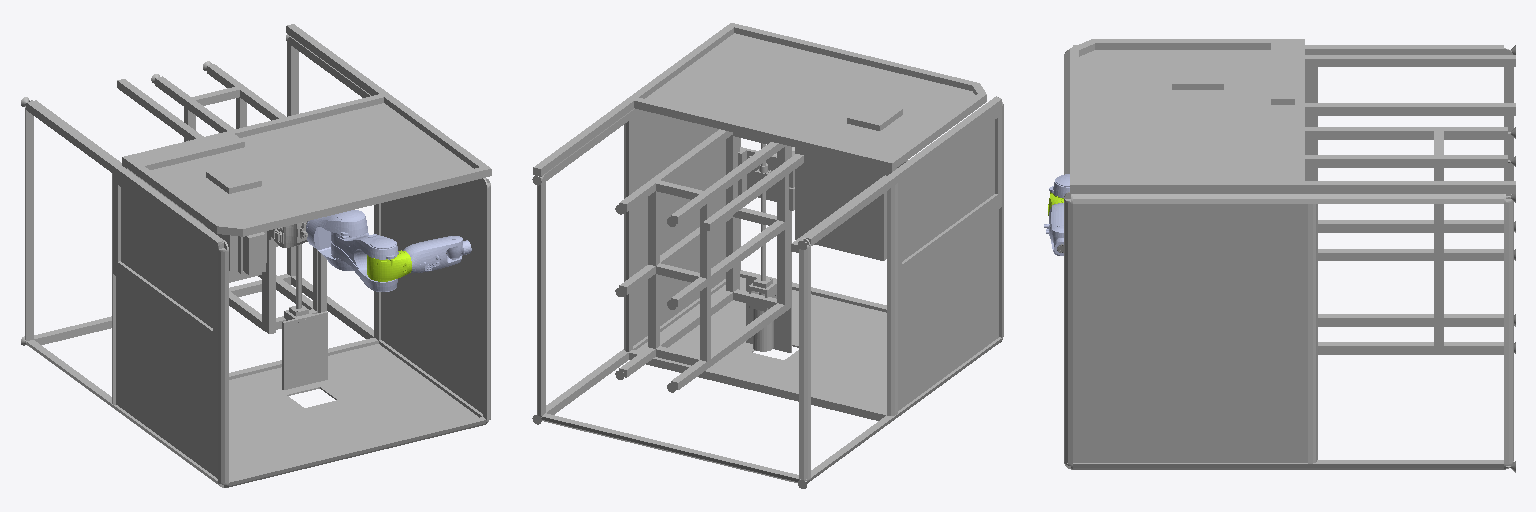
The robot description file, URDF, robot "kuka":
<?xml version="1.0" encoding="utf-8"?>
<!-- This URDF was automatically created by SolidWorks to URDF Exporter! Originally created by [author] ([email redacted]) 
     Commit Version: 1.5.1-0-g916b5db  Build Version: 1.5.7152.31018
     For more information, please see http://wiki.ros.org/sw_urdf_exporter -->
<robot
  name="kuka">
  <link
    name="base_link">
    <inertial>
      <origin
        xyz="0.59313617859597 -1.11287465825018 -0.416127983870025"
        rpy="0 0 0" />
      <mass
        value="171.312513540901" />
      <inertia
        ixx="15.4278561288017"
        ixy="0.334753403251732"
        ixz="-0.769988015650327"
        iyy="14.6830568753194"
        iyz="0.217841140427882"
        izz="21.0949940722863" />
    </inertial>
    <visual>
      <origin
        xyz="0 0 0"
        rpy="0 0 0" />
      <geometry>
        <mesh
          filename="package://kuka/meshes/base_link.STL" />
      </geometry>
      <material
        name="">
        <color
          rgba="0.752941176470588 0.752941176470588 0.752941176470588 1" />
      </material>
    </visual>
    <collision>
      <origin
        xyz="0 0 0"
        rpy="0 0 0" />
      <geometry>
        <mesh
          filename="package://kuka/meshes/base_link.STL" />
      </geometry>
    </collision>
  </link>
  <link
    name="Link1">
    <inertial>
      <origin
        xyz="0.00796741917125121 0.00201869056408216 0.11571807350516"
        rpy="0 0 0" />
      <mass
        value="6.2752643308886" />
      <inertia
        ixx="0.0762054973100548"
        ixy="9.82188280946093E-06"
        ixz="-0.00530053527041219"
        iyy="0.0500772495105224"
        iyz="-0.000515039640446045"
        izz="0.0562692167535696" />
    </inertial>
    <visual>
      <origin
        xyz="0 0 0"
        rpy="0 0 0" />
      <geometry>
        <mesh
          filename="package://kuka/meshes/Link1.STL" />
      </geometry>
      <material
        name="">
        <color
          rgba="0.792156862745098 0.819607843137255 0.933333333333333 1" />
      </material>
    </visual>
    <collision>
      <origin
        xyz="0 0 0"
        rpy="0 0 0" />
      <geometry>
        <mesh
          filename="package://kuka/meshes/Link1.STL" />
      </geometry>
    </collision>
  </link>
  <joint
    name="Joint1"
    type="revolute">
    <origin
      xyz="0.8275 -1.3595 -0.29335"
      rpy="1.5708 0 0" />
    <parent
      link="base_link" />
    <child
      link="Link1" />
    <axis
      xyz="0 0 -1" />
    <limit
      lower="0"
      upper="0"
      effort="0"
      velocity="0" />
  </joint>
  <link
    name="Link2">
    <inertial>
      <origin
        xyz="-0.00525474390047875 -0.00581945126514727 0.131443818626646"
        rpy="0 0 0" />
      <mass
        value="7.36258357526296" />
      <inertia
        ixx="0.151415777716324"
        ixy="-1.49718250099861E-05"
        ixz="0.000868975515047322"
        iyy="0.135639501588784"
        iyz="0.00168356952008552"
        izz="0.0384883582251908" />
    </inertial>
    <visual>
      <origin
        xyz="0 0 0"
        rpy="0 0 0" />
      <geometry>
        <mesh
          filename="package://kuka/meshes/Link2.STL" />
      </geometry>
      <material
        name="">
        <color
          rgba="0.792156862745098 0.819607843137255 0.933333333333333 1" />
      </material>
    </visual>
    <collision>
      <origin
        xyz="0 0 0"
        rpy="0 0 0" />
      <geometry>
        <mesh
          filename="package://kuka/meshes/Link2.STL" />
      </geometry>
    </collision>
  </link>
  <joint
    name="Joint2"
    type="revolute">
    <origin
      xyz="0.025 0 0.183"
      rpy="0 0 0" />
    <parent
      link="Link1" />
    <child
      link="Link2" />
    <axis
      xyz="0 1 0" />
    <limit
      lower="0"
      upper="0"
      effort="0"
      velocity="0" />
  </joint>
  <link
    name="Link3">
    <inertial>
      <origin
        xyz="0.0158897367922235 0.00377551624197836 0.0103622040751556"
        rpy="0 0 0" />
      <mass
        value="2.90698496201672" />
      <inertia
        ixx="0.00835937629772127"
        ixy="3.52504465660669E-05"
        ixz="-0.00140858848005162"
        iyy="0.0112132449173567"
        iyz="1.88954263071989E-05"
        izz="0.0100277382096032" />
    </inertial>
    <visual>
      <origin
        xyz="0 0 0"
        rpy="0 0 0" />
      <geometry>
        <mesh
          filename="package://kuka/meshes/Link3.STL" />
      </geometry>
      <material
        name="">
        <color
          rgba="0.8 1 0.2 1" />
      </material>
    </visual>
    <collision>
      <origin
        xyz="0 0 0"
        rpy="0 0 0" />
      <geometry>
        <mesh
          filename="package://kuka/meshes/Link3.STL" />
      </geometry>
    </collision>
  </link>
  <joint
    name="Joint3"
    type="revolute">
    <origin
      xyz="0 0 0.315"
      rpy="0 0 0" />
    <parent
      link="Link2" />
    <child
      link="Link3" />
    <axis
      xyz="0 1 0" />
    <limit
      lower="0"
      upper="0"
      effort="0"
      velocity="0" />
  </joint>
  <link
    name="Link4">
    <inertial>
      <origin
        xyz="0.123981724655049 0.00346882131594944 0.000289159424433638"
        rpy="0 0 0" />
      <mass
        value="2.75654211573202" />
      <inertia
        ixx="0.00584711967477938"
        ixy="-0.000156323192938725"
        ixz="5.19520515683497E-06"
        iyy="0.015611311463437"
        iyz="1.44373513448292E-05"
        izz="0.017271308996991" />
    </inertial>
    <visual>
      <origin
        xyz="0 0 0"
        rpy="0 0 0" />
      <geometry>
        <mesh
          filename="package://kuka/meshes/Link4.STL" />
      </geometry>
      <material
        name="">
        <color
          rgba="0.792156862745098 0.819607843137255 0.933333333333333 1" />
      </material>
    </visual>
    <collision>
      <origin
        xyz="0 0 0"
        rpy="0 0 0" />
      <geometry>
        <mesh
          filename="package://kuka/meshes/Link4.STL" />
      </geometry>
    </collision>
  </link>
  <joint
    name="Joint4"
    type="revolute">
    <origin
      xyz="0.10695 0.003 0.035"
      rpy="0 0 0" />
    <parent
      link="Link3" />
    <child
      link="Link4" />
    <axis
      xyz="-1 0 0" />
    <limit
      lower="0"
      upper="0"
      effort="0"
      velocity="0" />
  </joint>
  <link
    name="Link5">
    <inertial>
      <origin
        xyz="0.015789170220162 0.00191367544264348 -3.03958143441641E-05"
        rpy="0 0 0" />
      <mass
        value="0.442067197041368" />
      <inertia
        ixx="0.000318420757784035"
        ixy="1.66314420372671E-05"
        ixz="3.20639671747154E-07"
        iyy="0.000528480030475773"
        iyz="3.23079721640088E-07"
        izz="0.000562282896446409" />
    </inertial>
    <visual>
      <origin
        xyz="0 0 0"
        rpy="0 0 0" />
      <geometry>
        <mesh
          filename="package://kuka/meshes/Link5.STL" />
      </geometry>
      <material
        name="">
        <color
          rgba="0.792156862745098 0.819607843137255 0.933333333333333 1" />
      </material>
    </visual>
    <collision>
      <origin
        xyz="0 0 0"
        rpy="0 0 0" />
      <geometry>
        <mesh
          filename="package://kuka/meshes/Link5.STL" />
      </geometry>
    </collision>
  </link>
  <joint
    name="Joint5"
    type="revolute">
    <origin
      xyz="0.25805 0 0"
      rpy="0 0 0" />
    <parent
      link="Link4" />
    <child
      link="Link5" />
    <axis
      xyz="0 -1 0" />
    <limit
      lower="0"
      upper="0"
      effort="0"
      velocity="0" />
  </joint>
  <link
    name="Link6">
    <inertial>
      <origin
        xyz="0.00598033195614645 0 4.31407313121746E-05"
        rpy="0 0 0" />
      <mass
        value="0.0139949492210213" />
      <inertia
        ixx="3.02502810414477E-06"
        ixy="4.99805322765975E-23"
        ixz="-8.56055866655459E-10"
        iyy="1.71731248188302E-06"
        iyz="1.39146729140554E-22"
        izz="1.70788961196181E-06" />
    </inertial>
    <visual>
      <origin
        xyz="0 0 0"
        rpy="0 0 0" />
      <geometry>
        <mesh
          filename="package://kuka/meshes/Link6.STL" />
      </geometry>
      <material
        name="">
        <color
          rgba="0.6 0.6 0.6 1" />
      </material>
    </visual>
    <collision>
      <origin
        xyz="0 0 0"
        rpy="0 0 0" />
      <geometry>
        <mesh
          filename="package://kuka/meshes/Link6.STL" />
      </geometry>
    </collision>
  </link>
  <joint
    name="Joint6"
    type="revolute">
    <origin
      xyz="0.0665 0 0"
      rpy="0 0 0" />
    <parent
      link="Link5" />
    <child
      link="Link6" />
    <axis
      xyz="-1 0 0" />
    <limit
      lower="0"
      upper="0"
      effort="0"
      velocity="0" />
  </joint>
</robot>

--- Render facts (derived) ---
The picture shows the robot from 3 angles, left to right: view 1: azimuth 30°, elevation 25°; view 2: azimuth 150°, elevation 25°; view 3: azimuth 270°, elevation 25°; orthographic projection.
Robot: kuka — 7 links, 6 joints (6 revolute); root link base_link; default pose: all joints at 0.
Visible links, largest first — view 1: base_link, Link2, Link1, Link4, Link3; view 2: base_link; view 3: base_link, Link4.
Link boxes in pixels (box(x1,y1,x2,y2)): base_link: box(21, 24, 491, 487); Link2: box(331, 230, 398, 291); Link1: box(306, 210, 367, 270); Link4: box(403, 236, 462, 272); Link3: box(367, 250, 411, 281); base_link: box(532, 23, 1003, 488); base_link: box(1064, 39, 1515, 472); Link4: box(1044, 203, 1063, 255).
Size in the robot's own frame: 1.49 by 1.97 by 1.33 metres.
Meshes: 7 distinct files referenced, 7 mesh visuals loaded (7 binary STL).